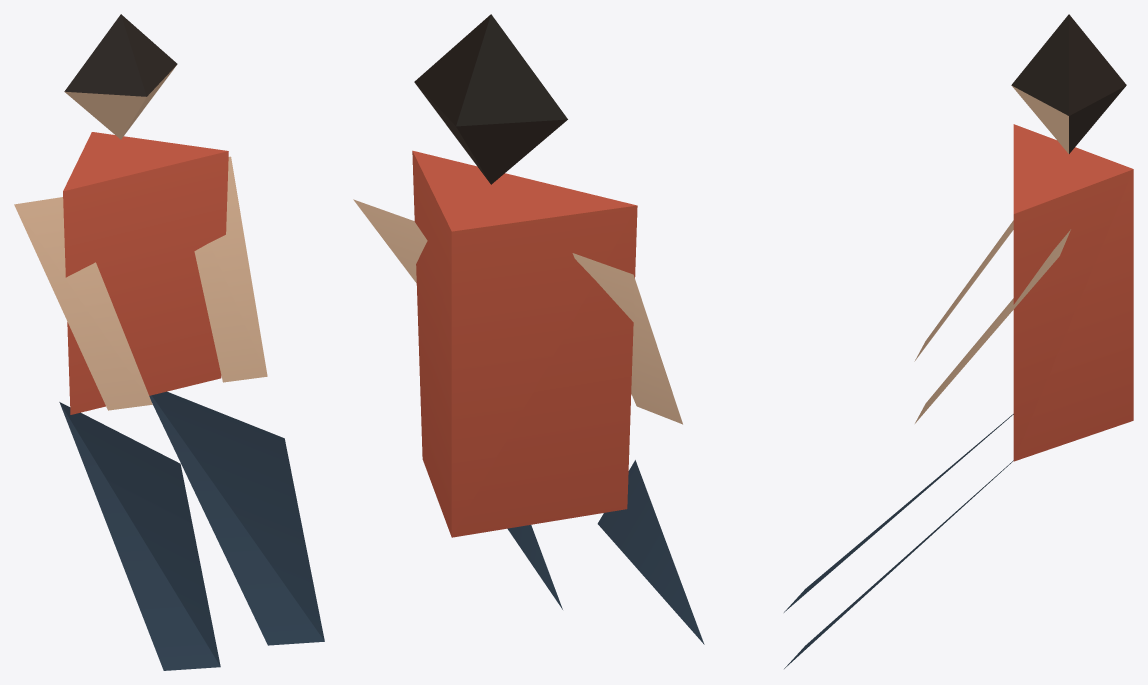
The model's file is fan-01.glb.
3 views of the same model, side by side, from view 1: azimuth 30°, elevation 25°; view 2: azimuth 150°, elevation 25°; view 3: azimuth 270°, elevation 25° (orthographic). The views are drawn at different scales.
Visible parts, largest first — view 1: fan-01; view 2: fan-01; view 3: fan-01.
Boxes of the visible parts, x1=… form: fan-01: x1=14, y1=14, x2=324, y2=670; fan-01: x1=353, y1=14, x2=704, y2=644; fan-01: x1=784, y1=14, x2=1133, y2=668.
Bounding box in the file's own units: 0.59 × 1.47 × 0.76.
